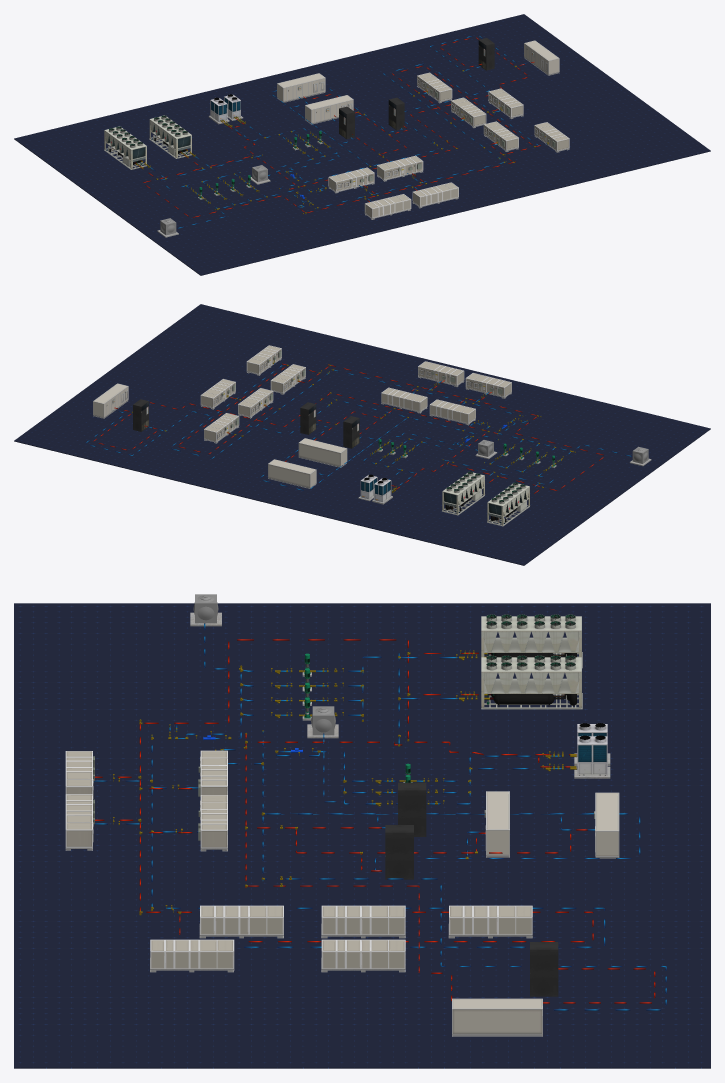
The model's file is YanChengJiKongOpacity_PrincipleModel.FBX.
The picture shows the model from 3 angles, top to bottom: view 1: azimuth 30°, elevation 25°; view 2: azimuth 150°, elevation 25°; view 3: azimuth 270°, elevation 25°; orthographic projection. The views are drawn at different scales.
Parts seen in each view (by area): view 1: Floor, ScrewLiquidChiller_Body, ScrewLiquidChiller01_Body, AHU-3-1, AHU-3-2, AHU-2-1, PAU_3_2, PAU_3_1, PAU_3_4, PAU_3_3, Tap, AHU_CW (+12 smaller); view 2: Floor, ScrewLiquidChiller_Body, ScrewLiquidChiller01_Body, AHU-3-2, AHU-3-1, AHU-2-1, PAU_3_3, PAU_3_4, PAU_3_1, PAU_3_2, AHU_CW, Tap (+12 smaller); view 3: Floor, ScrewLiquidChiller01_Body, AHU-2-1, ScrewLiquidChiller_Body, PAU_2_5, PAU_2_3, PAU_2_4, PAU_2_2, PAU_2_1, AHU_CW, Tap, AHU-3-1 (+14 smaller).
Part boxes in pixels (<box>): Floor: <box>14,14,710,275</box>; ScrewLiquidChiller_Body: <box>104,127,146,169</box>; ScrewLiquidChiller01_Body: <box>149,116,191,158</box>; AHU-3-1: <box>277,73,325,102</box>; AHU-3-2: <box>305,95,353,124</box>; AHU-2-1: <box>524,40,559,75</box>; PAU_3_2: <box>364,194,411,219</box>; PAU_3_1: <box>412,182,458,208</box>; PAU_3_4: <box>328,167,374,193</box>; PAU_3_3: <box>377,155,423,181</box>; Tap: <box>136,65,548,214</box>; AHU_CW: <box>226,35,526,191</box>; Floor: <box>14,304,710,565</box>; ScrewLiquidChiller_Body: <box>487,483,529,526</box>; ScrewLiquidChiller01_Body: <box>442,472,484,515</box>; AHU-3-2: <box>298,438,347,467</box>; AHU-3-1: <box>268,459,316,488</box>; AHU-2-1: <box>93,383,128,418</box>; PAU_3_3: <box>381,387,427,413</box>; PAU_3_4: <box>429,399,475,425</box>; PAU_3_1: <box>418,361,464,386</box>; PAU_3_2: <box>465,373,511,398</box>; AHU_CW: <box>86,399,498,491</box>; Tap: <box>132,360,575,492</box>; Floor: <box>14,603,710,1068</box>; ScrewLiquidChiller01_Body: <box>481,657,582,709</box>; AHU-2-1: <box>452,998,542,1036</box>; ScrewLiquidChiller_Body: <box>481,616,582,668</box>; PAU_2_5: <box>321,939,405,972</box>; PAU_2_3: <box>321,905,405,938</box>; PAU_2_4: <box>150,939,234,972</box>; PAU_2_2: <box>199,905,283,938</box>; PAU_2_1: <box>448,905,532,938</box>; AHU_CW: <box>221,731,666,1010</box>; Tap: <box>113,650,576,915</box>; AHU-3-1: <box>594,792,619,858</box>.
Bounding box in the file's own units: 855 × 41.34 × 542.
